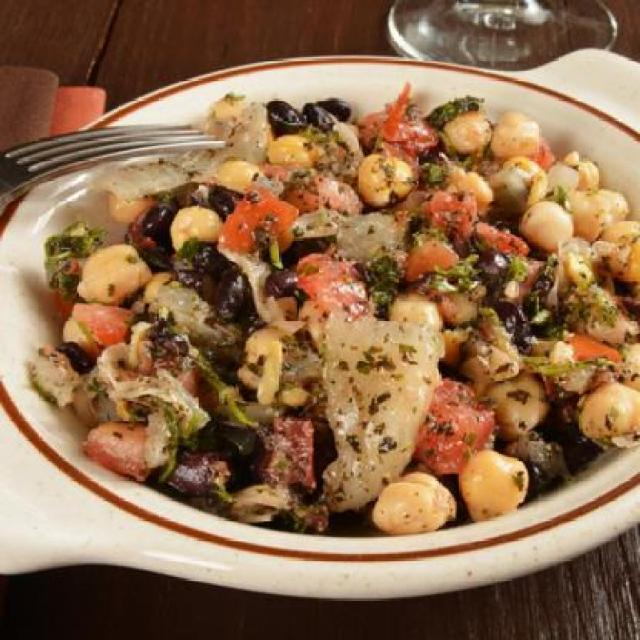eggplant: (141, 178, 253, 312), (459, 256, 566, 344), (155, 422, 270, 495), (523, 410, 583, 492)
hummus: (371, 338, 629, 547), (71, 132, 312, 314), (376, 101, 638, 250)
